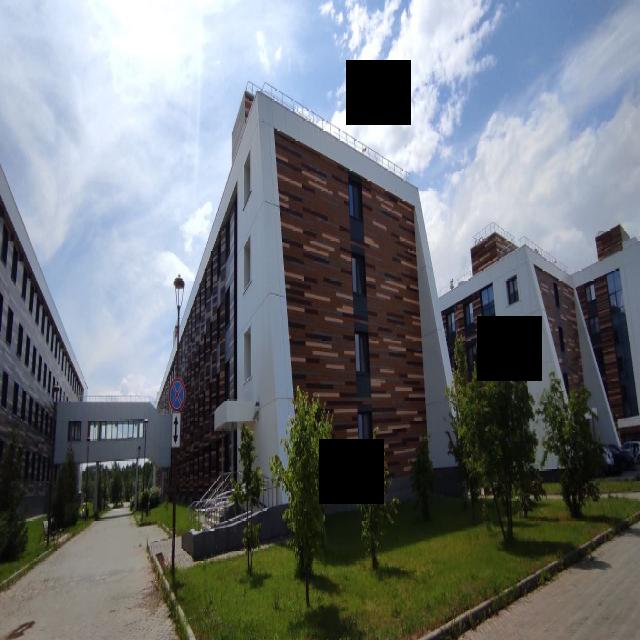Building: (153, 90, 453, 558)
